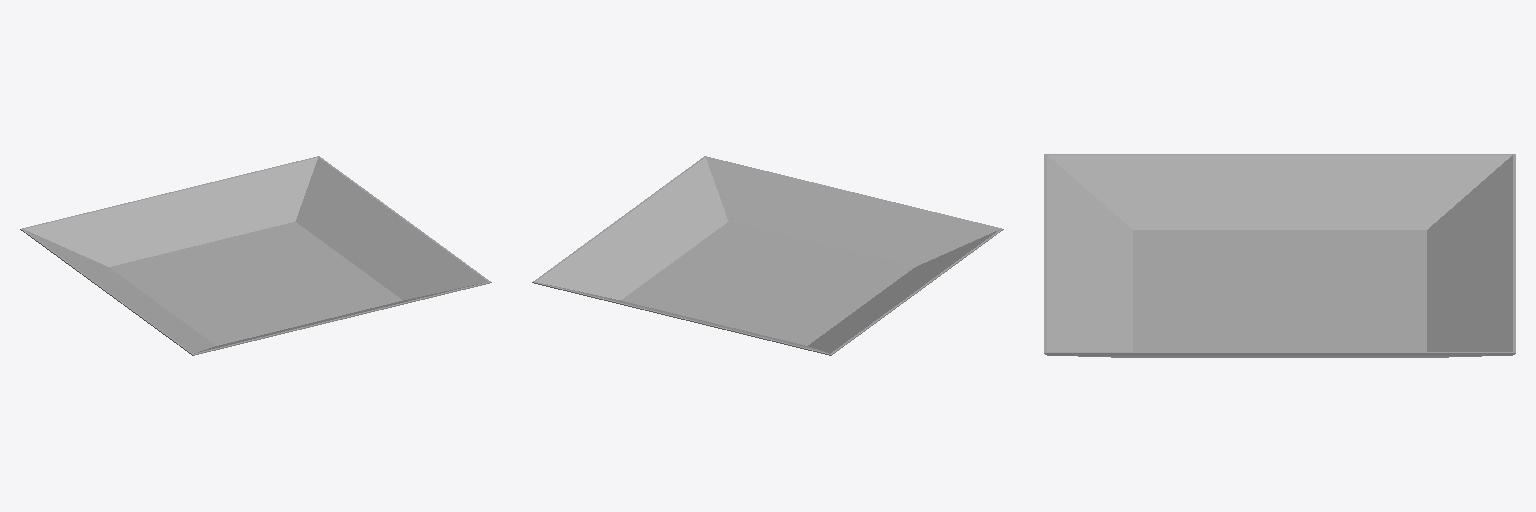
URDF robot description (tray.urdf):
<?xml version="0.0" ?>
<robot name="tray.urdf">

<link name="tray">
	<contact>
      <lateral_friction value="0.6"/>
    </contact>
    <inertial>
      <origin rpy="0 0 0" xyz="0 0 0"/>
       <mass value="500"/>
       <inertia ixx="1" ixy="0" ixz="0" iyy="1" iyz="0" izz="1"/>
    </inertial>
    <visual>
      <origin rpy="0 0 0" xyz="0 0 0"/>
      <geometry>
		<mesh filename="tray.obj" scale=".001 .001 .0005"/>  <!-- 1mm in freecad is treated as 1m here -->
      </geometry>
       <material name="grey">
        <color rgba="0.7 0.7 0.7 1"/>
      </material>
    </visual>
    <collision concave="yes">
      <geometry>
      	<mesh filename="tray.obj" scale=".001 .001 .0005"/>
      </geometry>
      <origin rpy="0 0 0" xyz="0 0 0"/>
    </collision>
</link>

</robot>

--- Render facts (derived) ---
Views: 3 orthographic renders of the robot side by side, from view 1: azimuth 30°, elevation 25°; view 2: azimuth 150°, elevation 25°; view 3: azimuth 270°, elevation 25°.
Robot: tray.urdf — 1 links, 0 joints (none); root link tray; default pose: every joint at zero.
Links seen in each view (by area): view 1: tray; view 2: tray; view 3: tray.
Boxes of the visible links, left/top/right/bottom form: tray: left=20, top=156, right=491, bottom=355; tray: left=532, top=156, right=1003, bottom=355; tray: left=1044, top=154, right=1515, bottom=357.
Size in the robot's own frame: 0.16 by 0.16 by 0.0155 metres.
1 mesh visuals loaded from 1 distinct referenced files (1 OBJ).